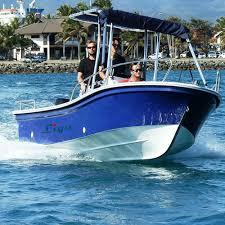fishing boat: (9, 9, 223, 161)
